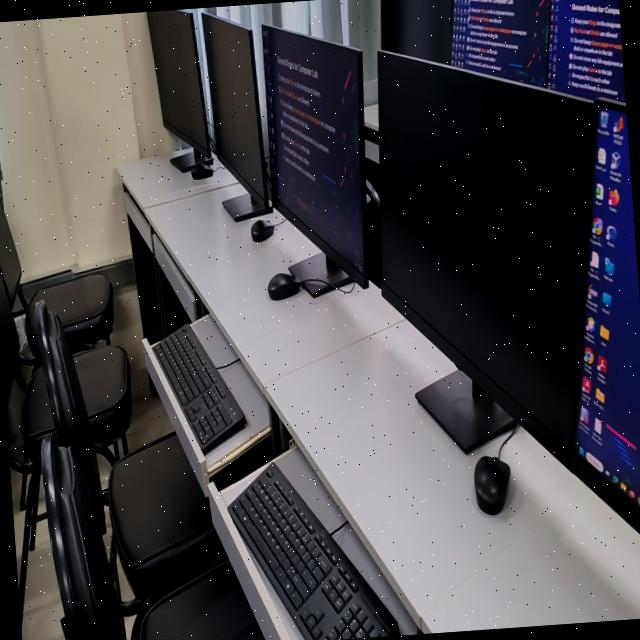Chair: (35, 301, 224, 614), (41, 436, 265, 640), (0, 277, 55, 631), (73, 345, 131, 464), (25, 274, 112, 353), (31, 274, 113, 352), (0, 202, 39, 354), (41, 274, 113, 351), (25, 313, 36, 353)
Keyboard: (228, 465, 398, 640), (152, 324, 245, 451), (293, 538, 306, 555)
Monitor: (378, 51, 595, 457), (262, 25, 373, 288), (575, 103, 640, 510), (201, 14, 271, 214), (146, 9, 211, 163), (451, 0, 550, 86), (548, 0, 625, 100), (380, 0, 451, 63)
Mouse: (474, 455, 510, 514), (267, 272, 299, 300), (250, 219, 274, 241), (191, 163, 213, 179)
